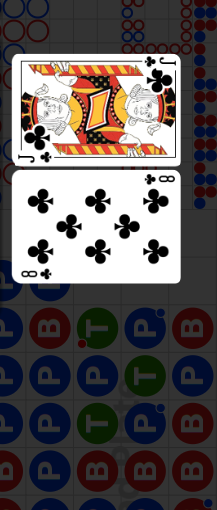8C: (20, 267, 54, 281)
JC: (143, 54, 177, 69)
